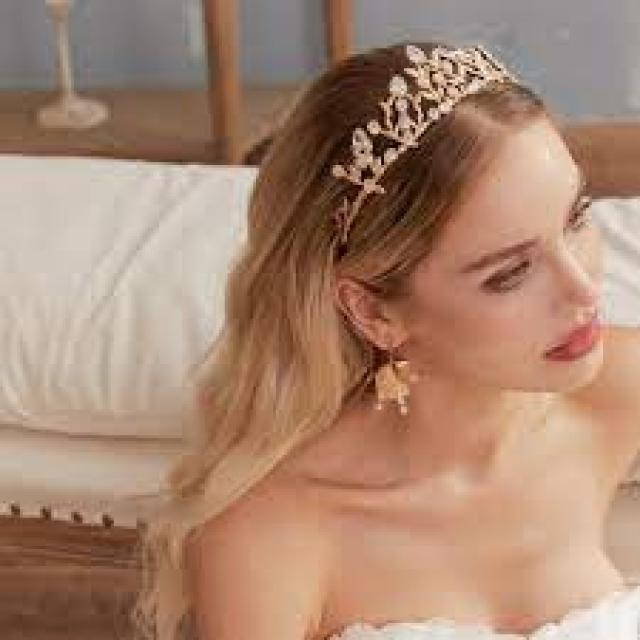Earring: (359, 294, 432, 440)
